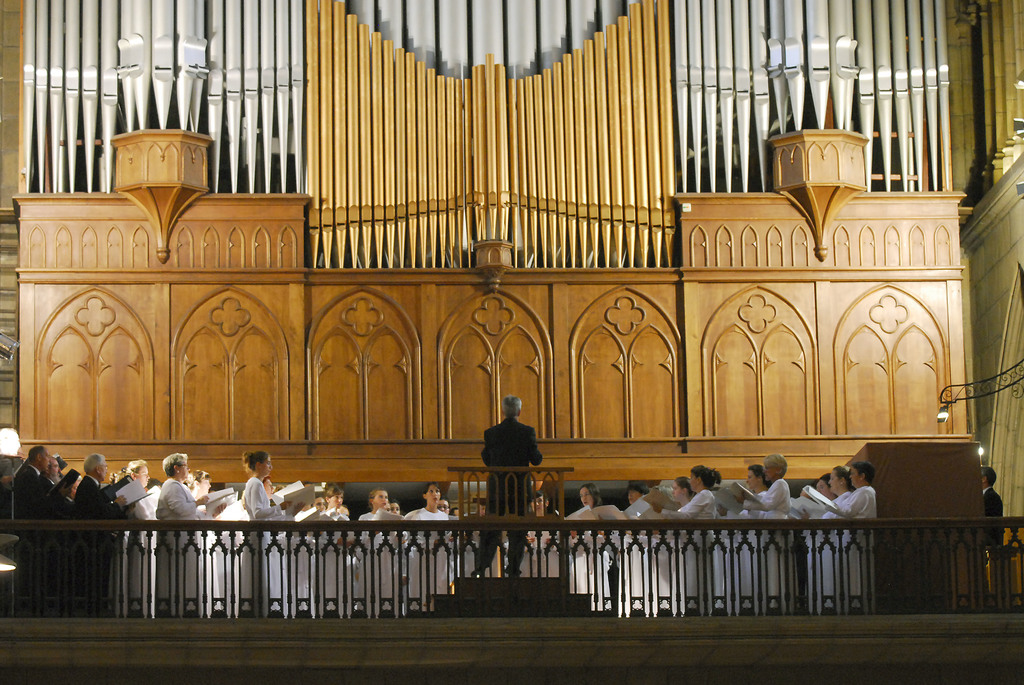Person: (13, 396, 1003, 619)
